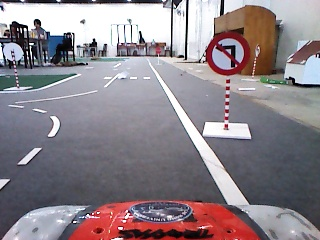ban_left: (206, 31, 251, 76)
